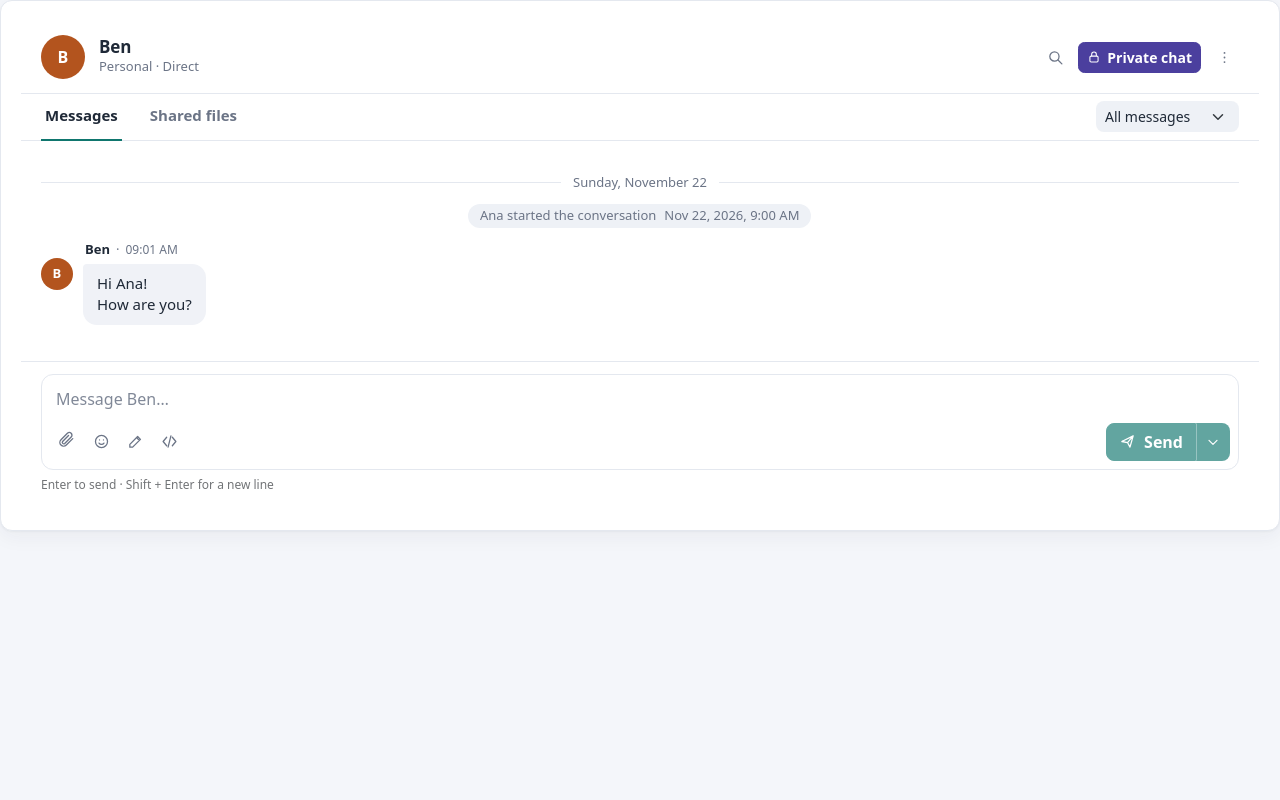
Test: ConversationView › keeps a failed message with a retry that reuses the same client message id
Check: the text "Hi Ana!How are you?" is shown, box [97,272,192,316]
Type "Hello?" into the dropdown labelled "Message". click: x=640, y=396
box: [42,374,1238,418]
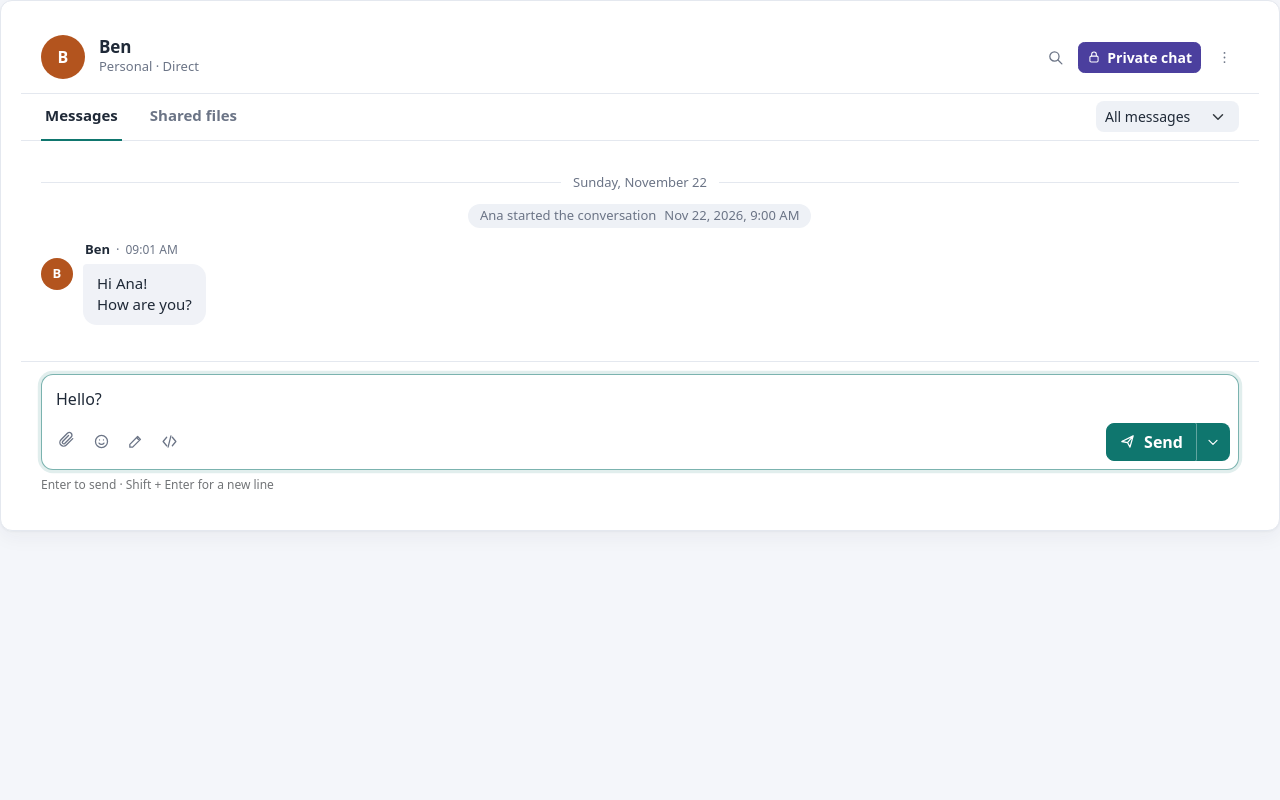
Click the button "Send". click: x=1151, y=442
box: [1106,422,1196,460]
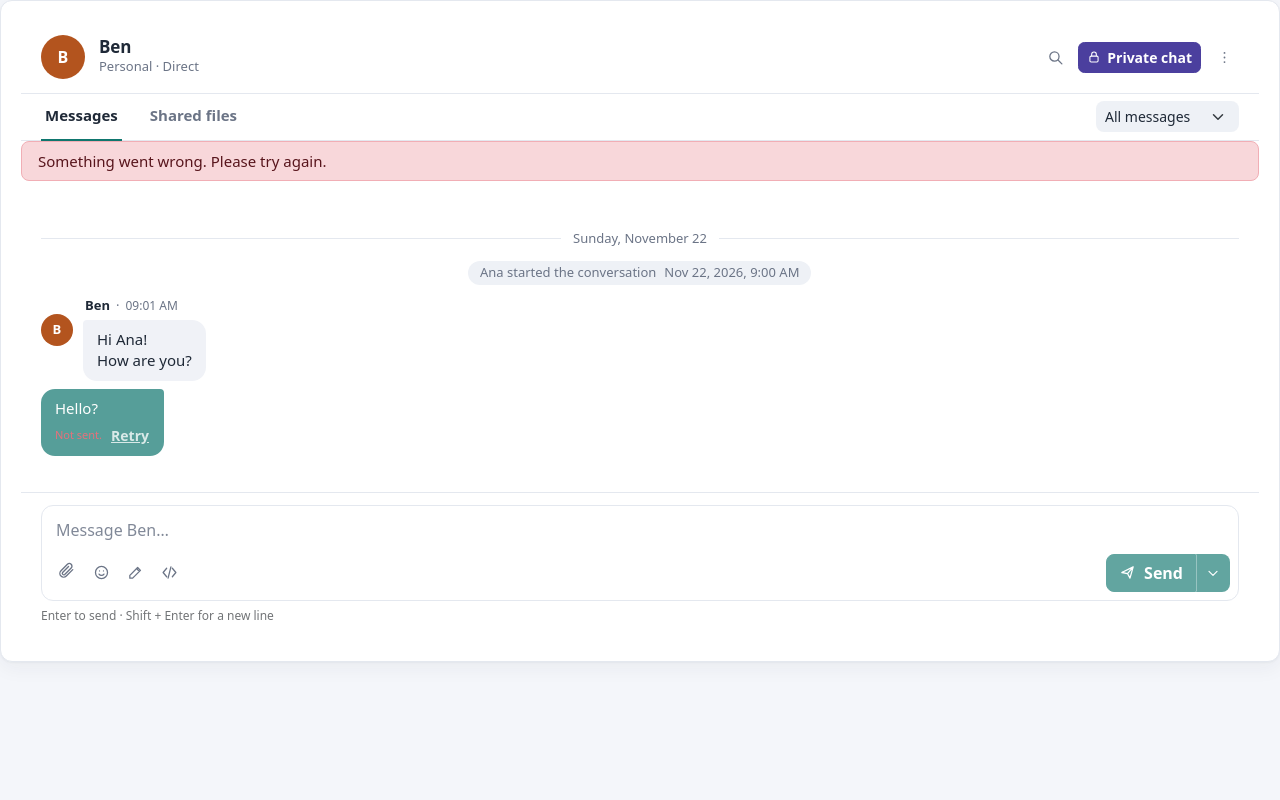
Check: the text "Not sent." is shown, box [55,427,102,444]
Click the button "Retry". click: x=130, y=435
box: [110,424,150,447]
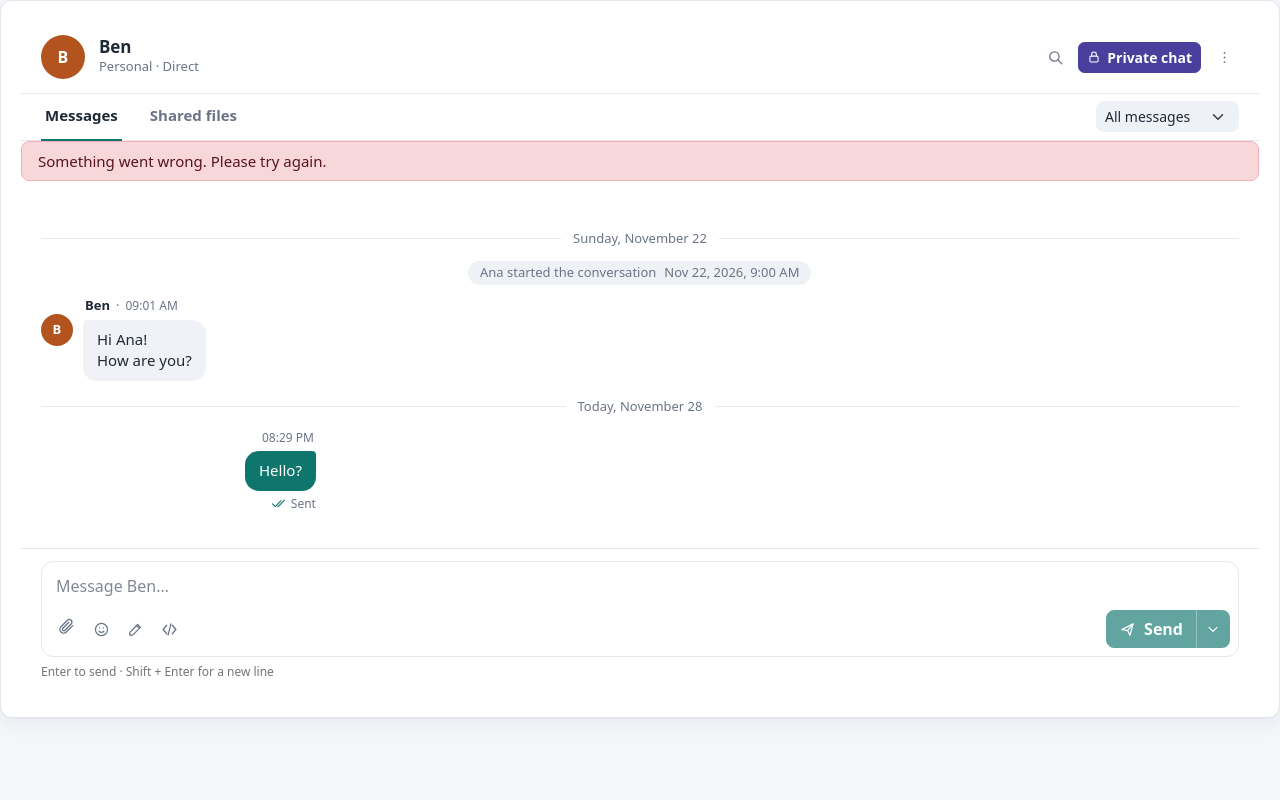
Check: the text "Sent" is shown, box [271,494,316,512]
Check: the text "Not sent." is gone
